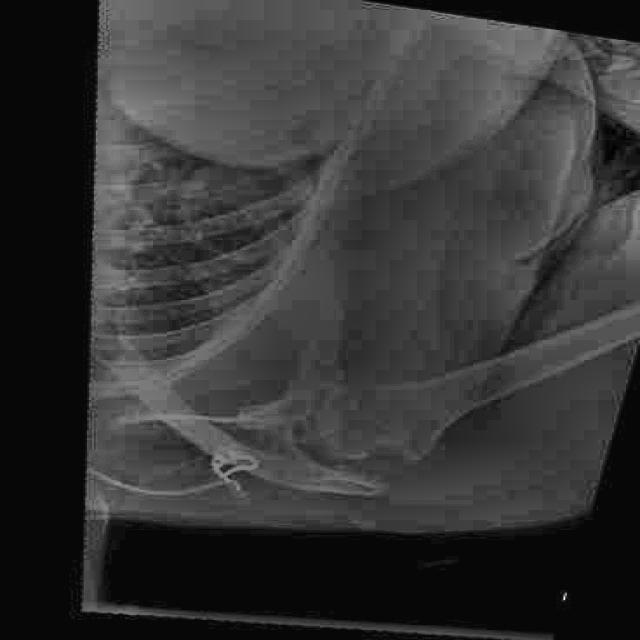shoulder fracture: (331, 425, 445, 482)
